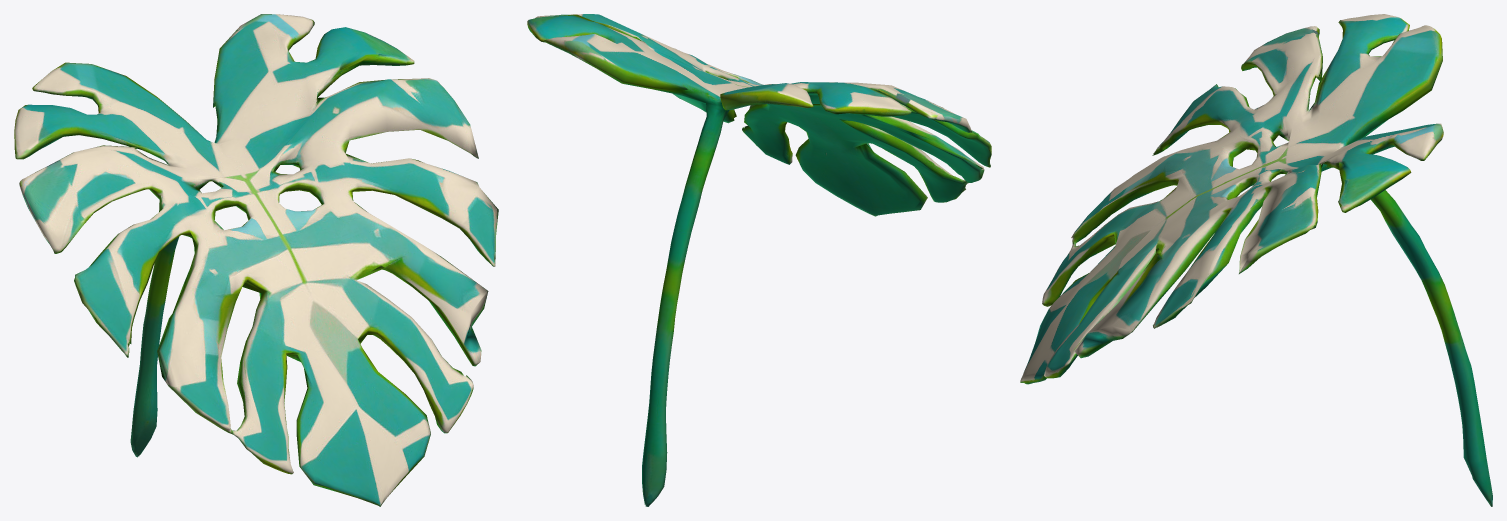
File: mon_speckle_greencream_v1.glb
3 views of the same model, side by side, from view 1: azimuth 30°, elevation 25°; view 2: azimuth 150°, elevation 25°; view 3: azimuth 270°, elevation 25° (orthographic). The views are drawn at different scales.
Visible parts, largest first — view 1: world; view 2: world; view 3: world.
Boxes of the visible parts, x1=… form: world: x1=14, y1=14, x2=498, y2=506; world: x1=527, y1=14, x2=991, y2=506; world: x1=1020, y1=14, x2=1492, y2=506.
Size of the model in its own units: 2 by 1.96 by 1.97.
Materials: 1 (1 with a texture image).
